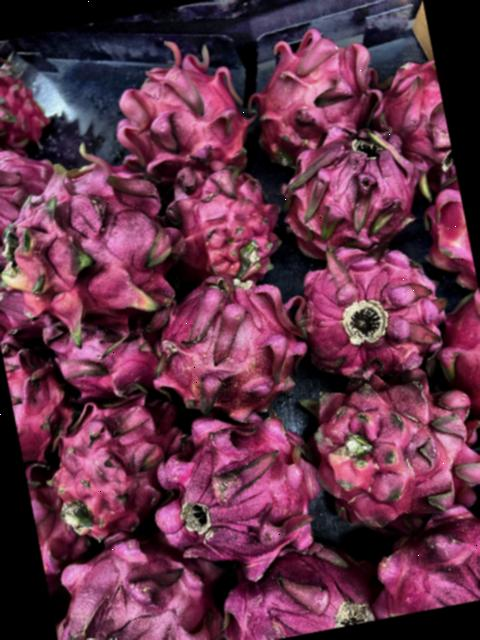buah-naga-matang: (286, 343, 480, 546), (140, 398, 336, 588), (0, 167, 205, 335), (146, 272, 322, 431), (95, 27, 263, 193), (34, 388, 197, 552), (287, 226, 454, 384), (234, 9, 390, 168), (270, 114, 426, 260), (155, 154, 292, 293), (51, 532, 227, 640), (207, 535, 379, 640), (34, 304, 176, 419), (355, 500, 480, 619), (364, 45, 458, 194), (0, 324, 88, 473), (0, 137, 67, 255), (436, 283, 480, 459), (0, 38, 59, 165), (416, 182, 478, 294)
